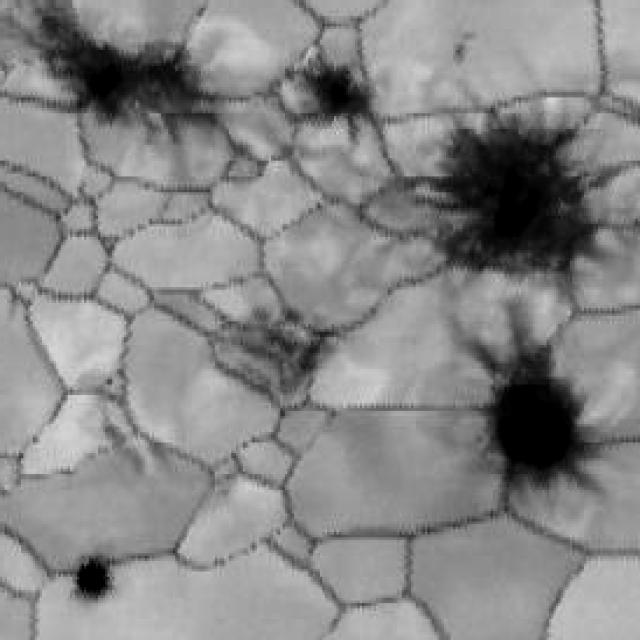good_void: (401, 100, 609, 319), (23, 0, 221, 146), (469, 302, 605, 508), (284, 47, 375, 149), (230, 310, 337, 393), (72, 555, 113, 606), (452, 45, 464, 66), (104, 376, 114, 387)
